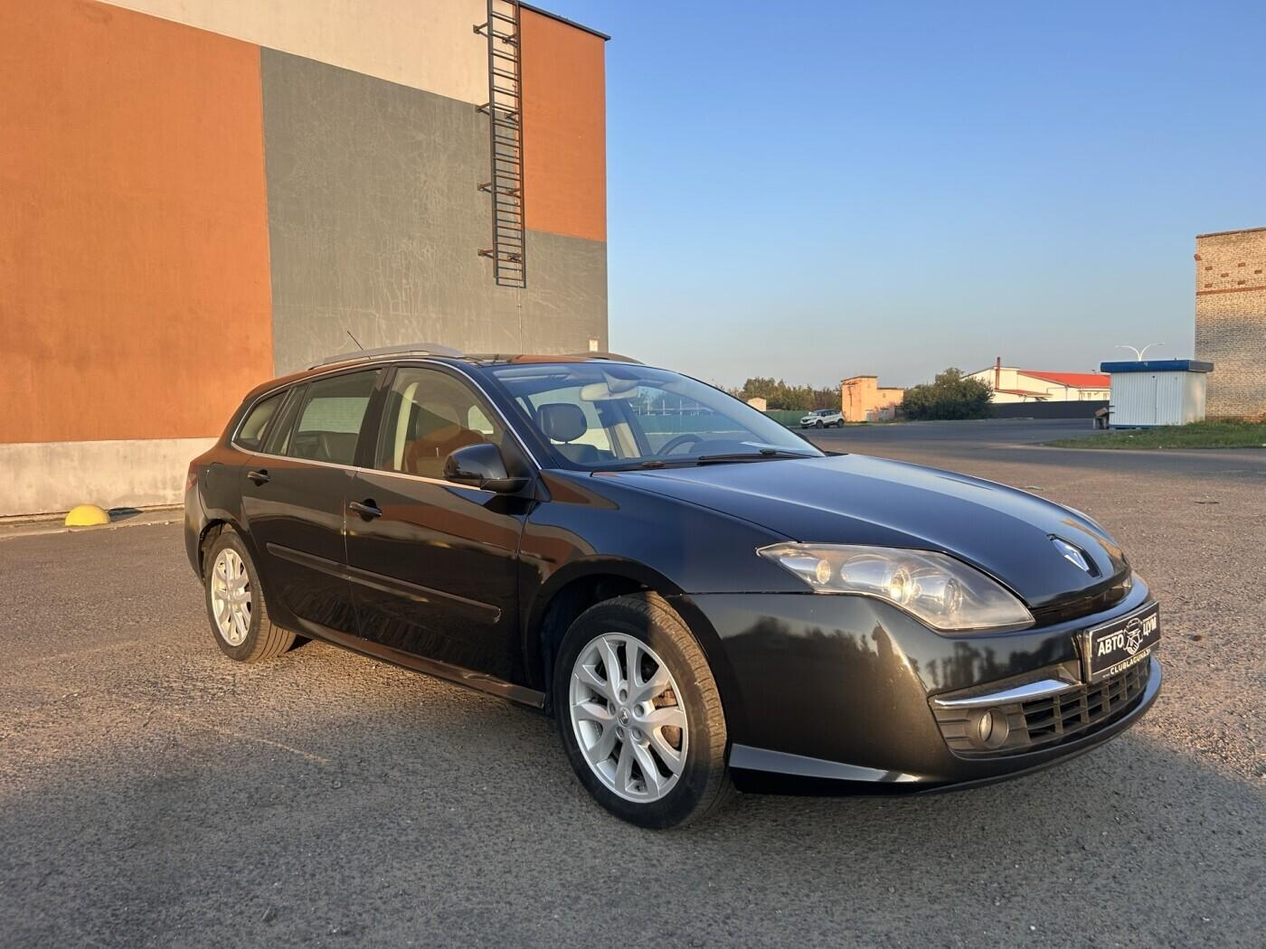Laguna_2007-2011: (184, 349, 1160, 827)
